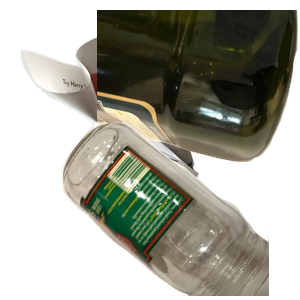glass: (60, 120, 300, 300)
paper: (18, 30, 213, 210)
plastic: (97, 10, 300, 165)
trash: (96, 181, 277, 300)
